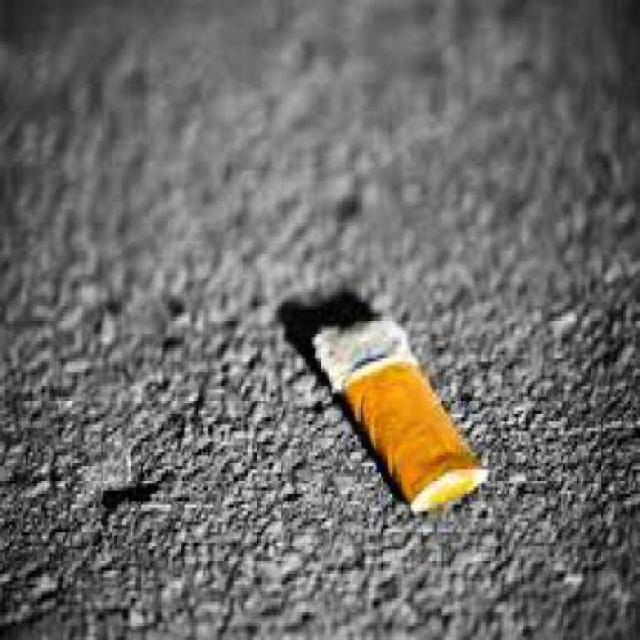cigarette: (286, 313, 488, 532)
